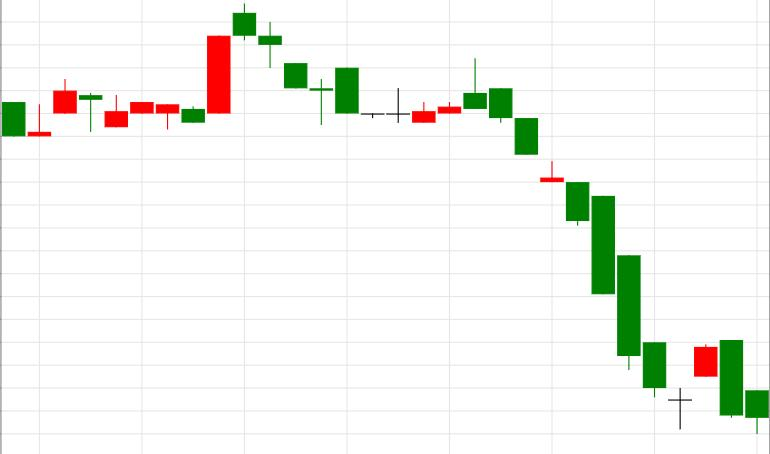morning_star_rise: (464, 58, 718, 429)
